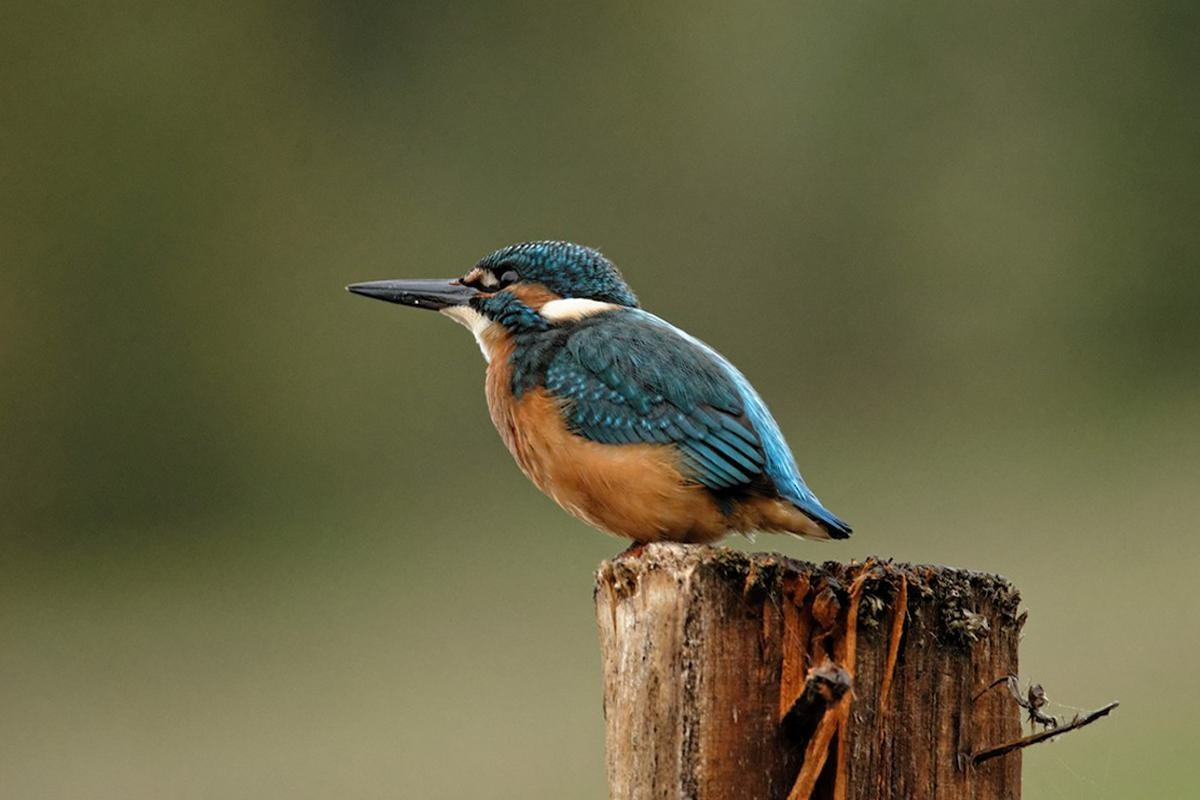kingfisher: (334, 234, 850, 563)
